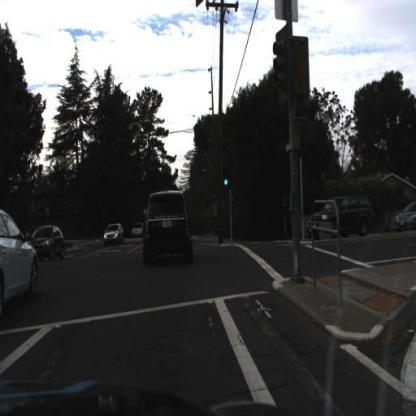car: (0, 203, 39, 317), (141, 187, 192, 266), (308, 192, 376, 239), (28, 223, 66, 260), (391, 200, 415, 234), (101, 221, 124, 246), (130, 219, 146, 240)
trafficLight-Green: (221, 165, 230, 190)
